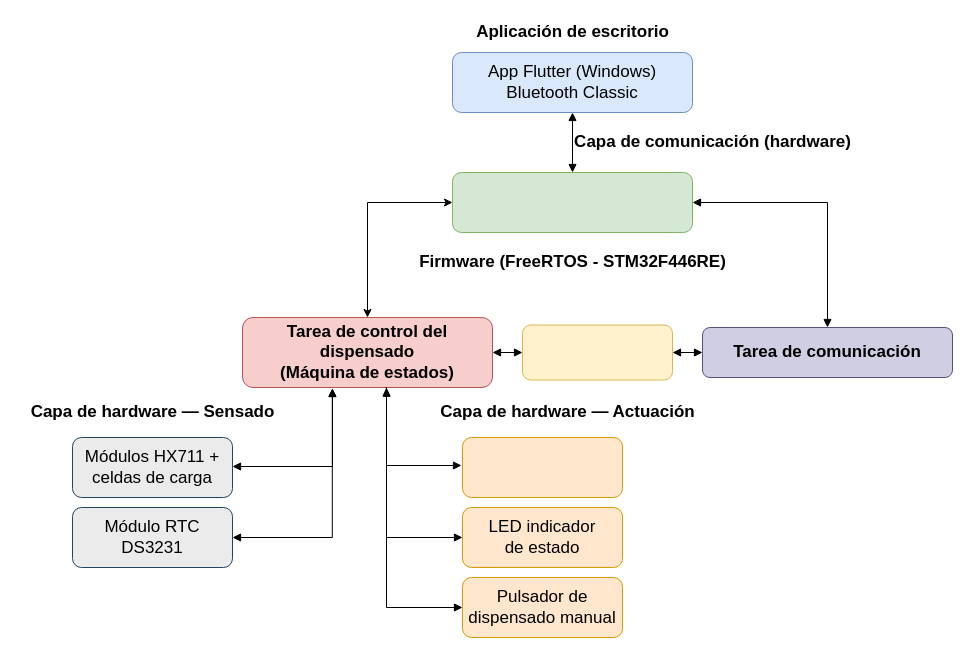
Some shapes in this 970 by 655 pixel diagram are drawn without their labels. Here are the shapes that lost their labels. From the top down, the box of each, then its label:
(452, 172, 692, 232): Módulo ESP32 (puente UART - Bluetooth)
(522, 324, 672, 380): Cola de mensajes (xQueueHandle)
(462, 436, 622, 498): Motor NEMA 17 + driver A4988
